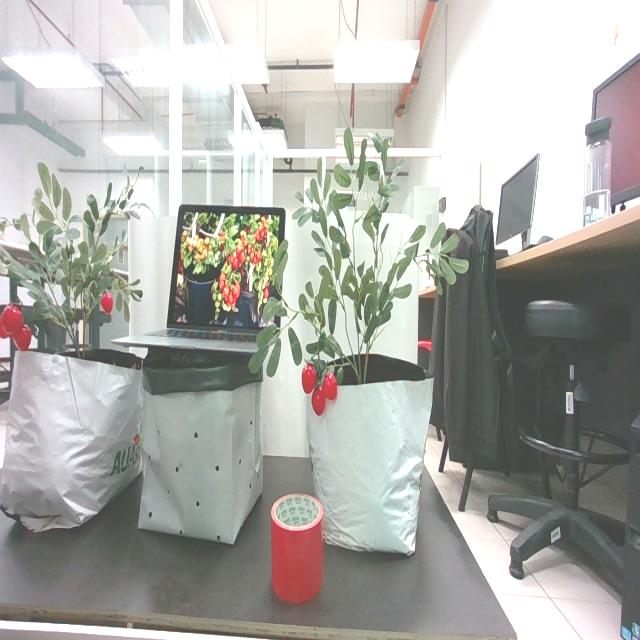Soilbag: (0, 351, 144, 536), (306, 354, 434, 555), (138, 348, 261, 547)
Tomato: (302, 364, 339, 425)
plant: (247, 129, 468, 413), (0, 163, 154, 356)
